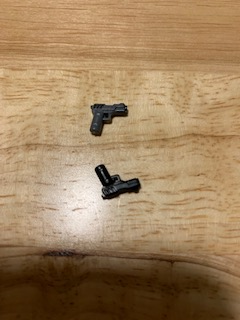pistol: (92, 162, 142, 201), (82, 100, 133, 136)
